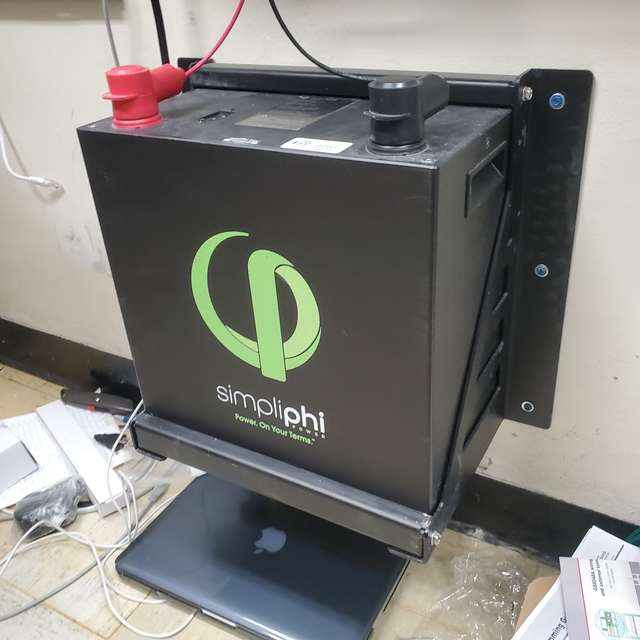battery: (70, 55, 594, 567)
